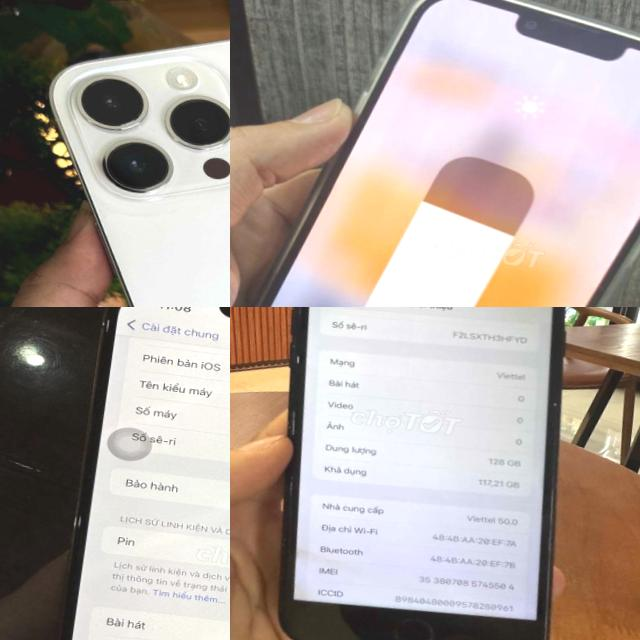gen_12_13: (230, 0, 640, 307), (18, 307, 230, 640)
gen_14: (3, 0, 230, 307)
gen_7_8: (271, 307, 565, 640)
